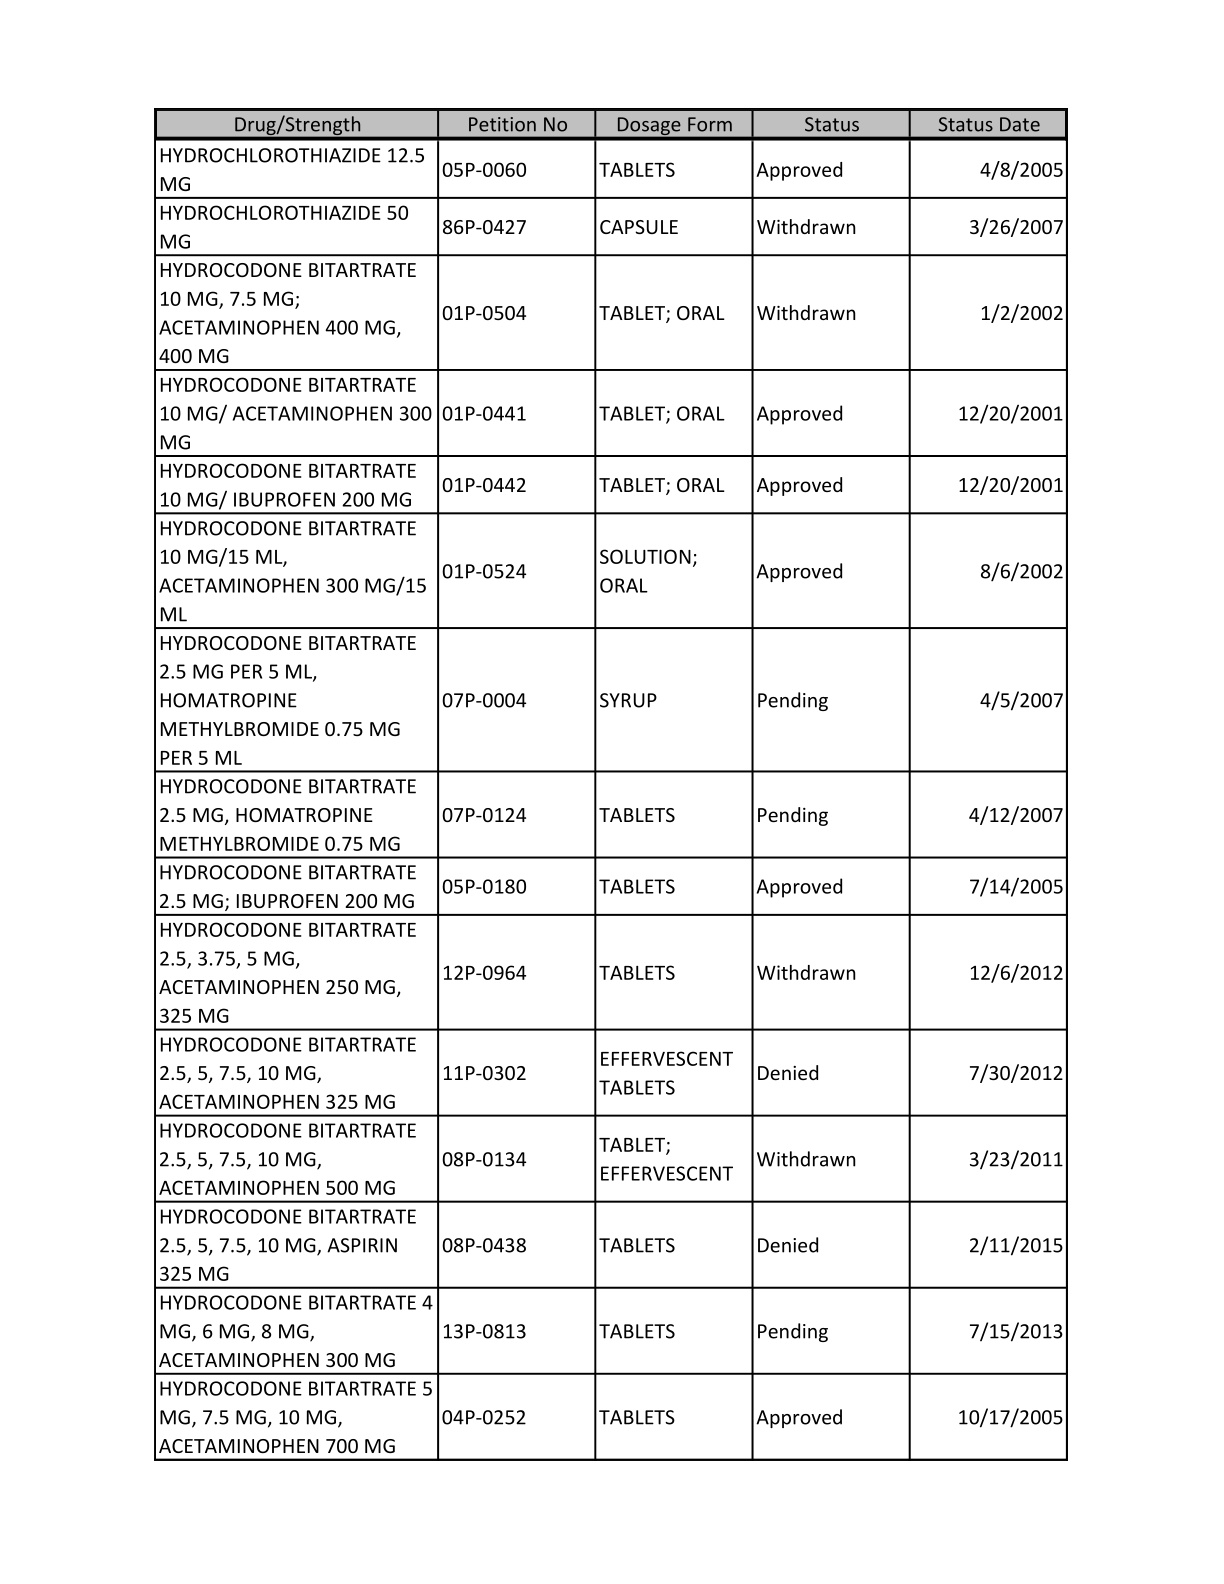full_lined: (153, 105, 1068, 1462)
